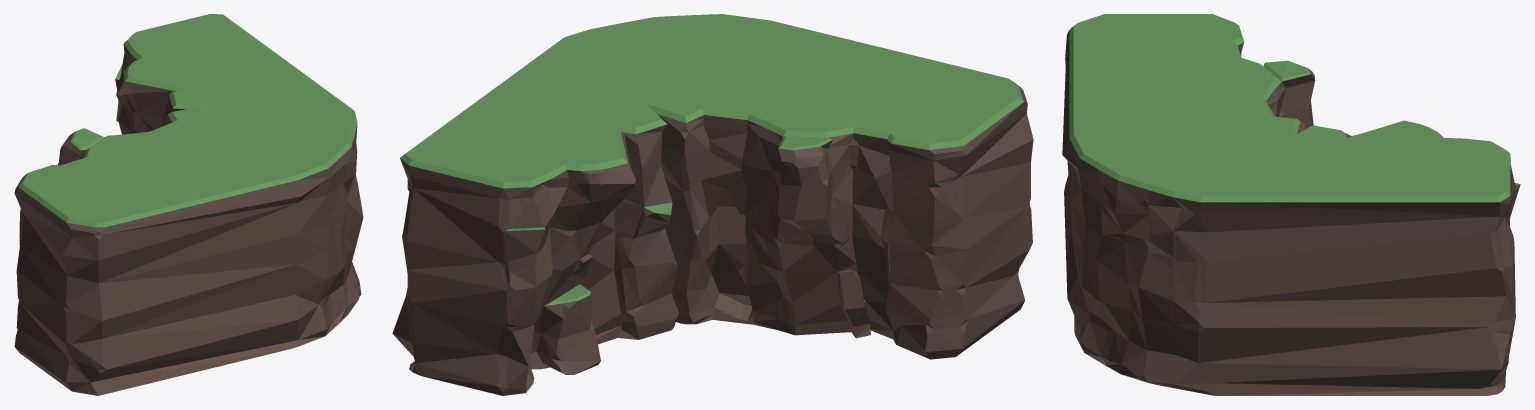
File: Cliff L 9.fbx
The picture shows the model from 3 angles, left to right: view 1: azimuth 30°, elevation 25°; view 2: azimuth 150°, elevation 25°; view 3: azimuth 270°, elevation 25°; orthographic projection. The views are drawn at different scales.
Visible parts, largest first — view 1: Cliff 22; view 2: Cliff 22; view 3: Cliff 22.
Boxes of the visible parts, <box> form: Cliff 22: <box>14,14,363,395</box>; Cliff 22: <box>392,14,1033,395</box>; Cliff 22: <box>1062,14,1520,395</box>.
Bounding box in the file's own units: 212 × 102 × 213.
